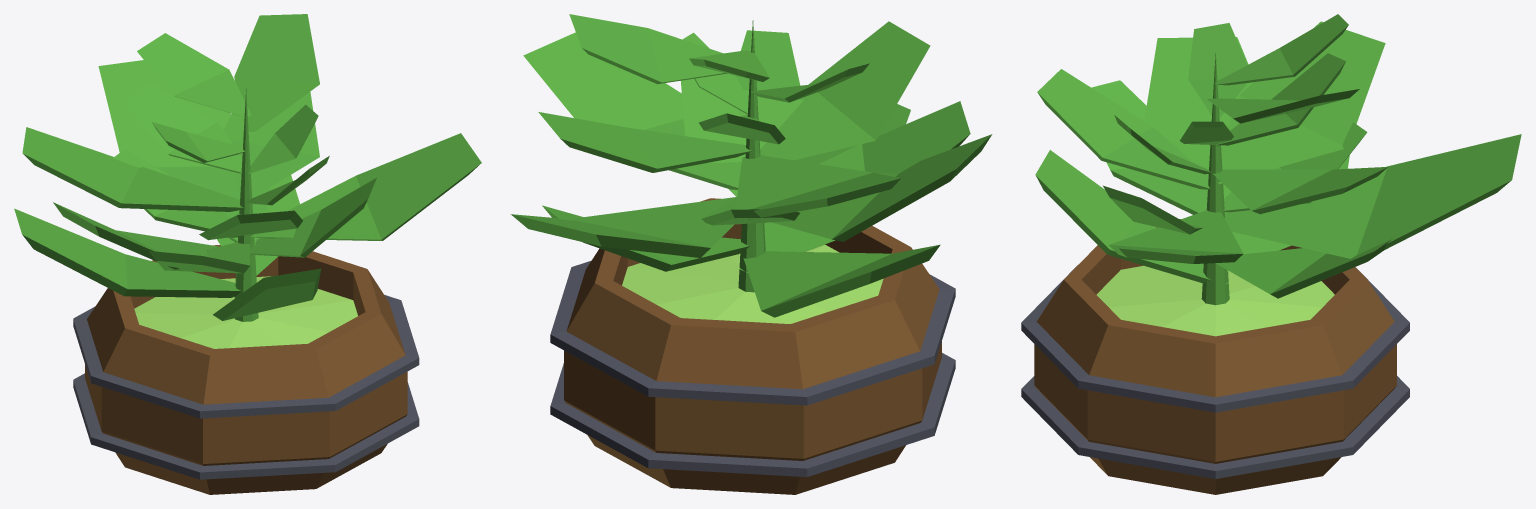
File: plant.fbx
3 views of the same model, side by side, from view 1: azimuth 30°, elevation 25°; view 2: azimuth 150°, elevation 25°; view 3: azimuth 270°, elevation 25° (orthographic). The views are drawn at different scales.
Parts seen in each view (by area): view 1: Barrel.003; view 2: Barrel.003; view 3: Barrel.003.
Boxes of the visible parts, x1=… form: Barrel.003: x1=14, y1=14, x2=481, y2=494; Barrel.003: x1=510, y1=14, x2=992, y2=494; Barrel.003: x1=1021, y1=14, x2=1521, y2=494.
Bounding box in the file's own units: 450 × 394 × 452.
